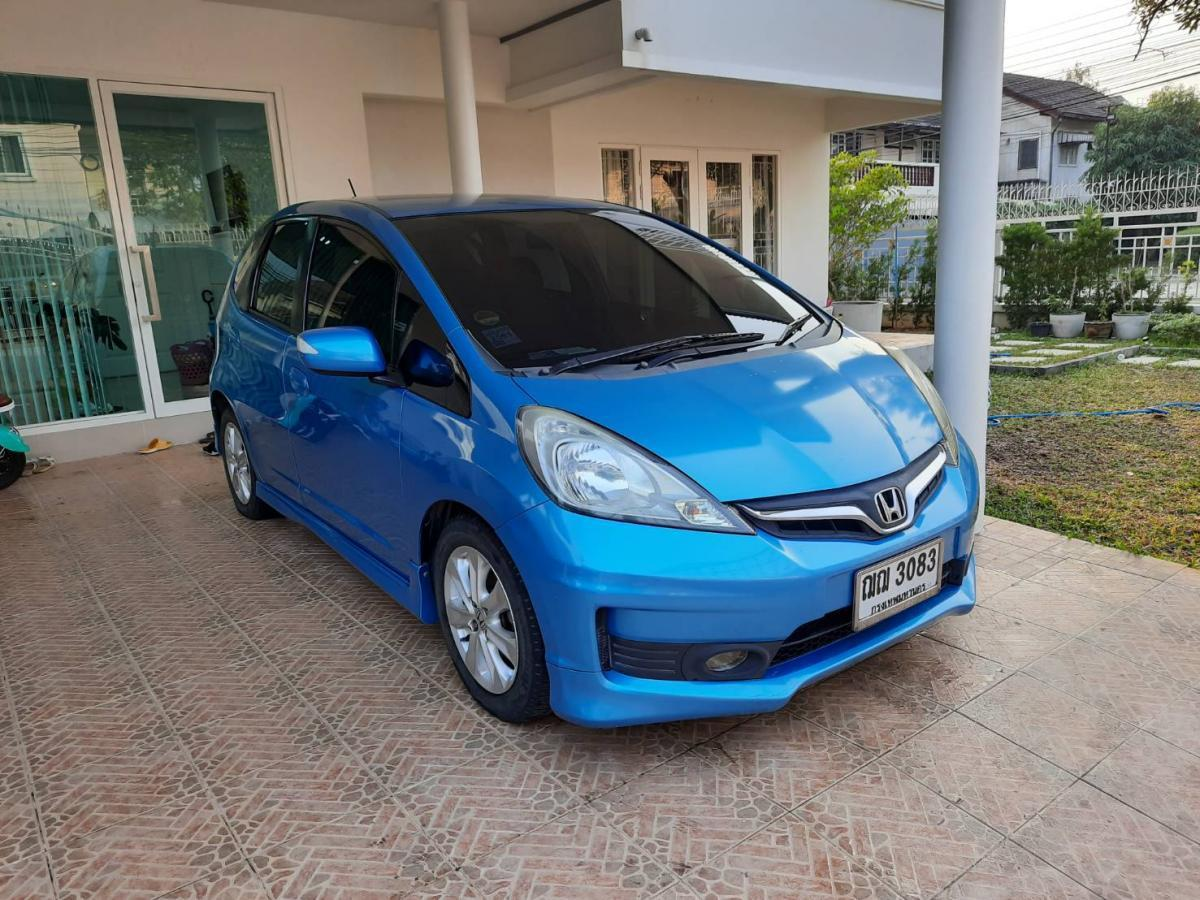Hatchback: (204, 170, 1005, 772)
